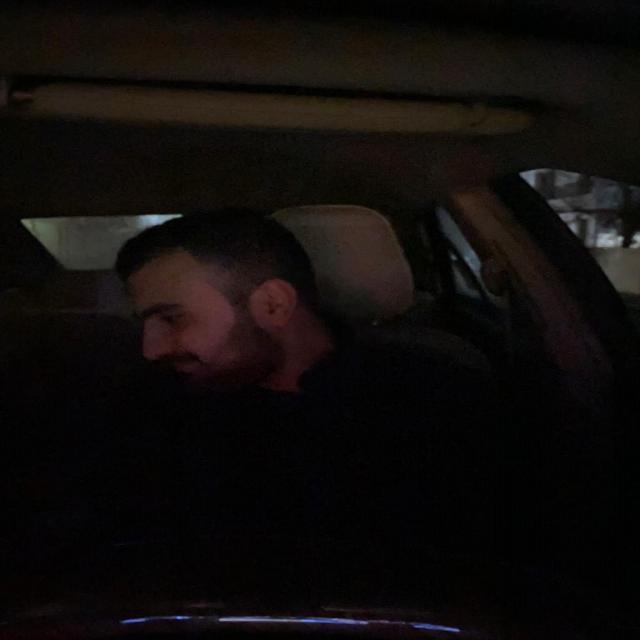LeftRight: (110, 218, 334, 422)
